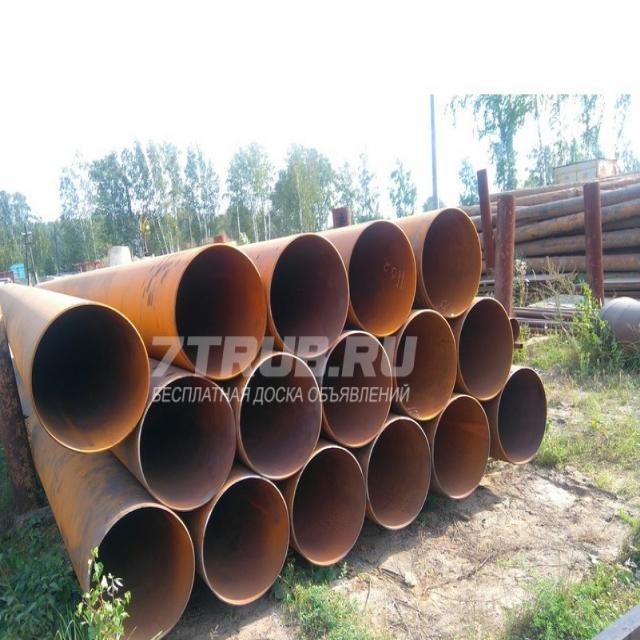pipe: (30, 302, 150, 452), (84, 504, 196, 639), (137, 374, 237, 509), (172, 241, 268, 379), (201, 474, 289, 604), (237, 350, 321, 477), (271, 231, 350, 357), (292, 445, 366, 566), (321, 330, 393, 446), (349, 217, 415, 338), (368, 417, 432, 532), (419, 205, 483, 318), (395, 309, 455, 421), (434, 395, 490, 501), (457, 297, 512, 399), (495, 366, 549, 464)
